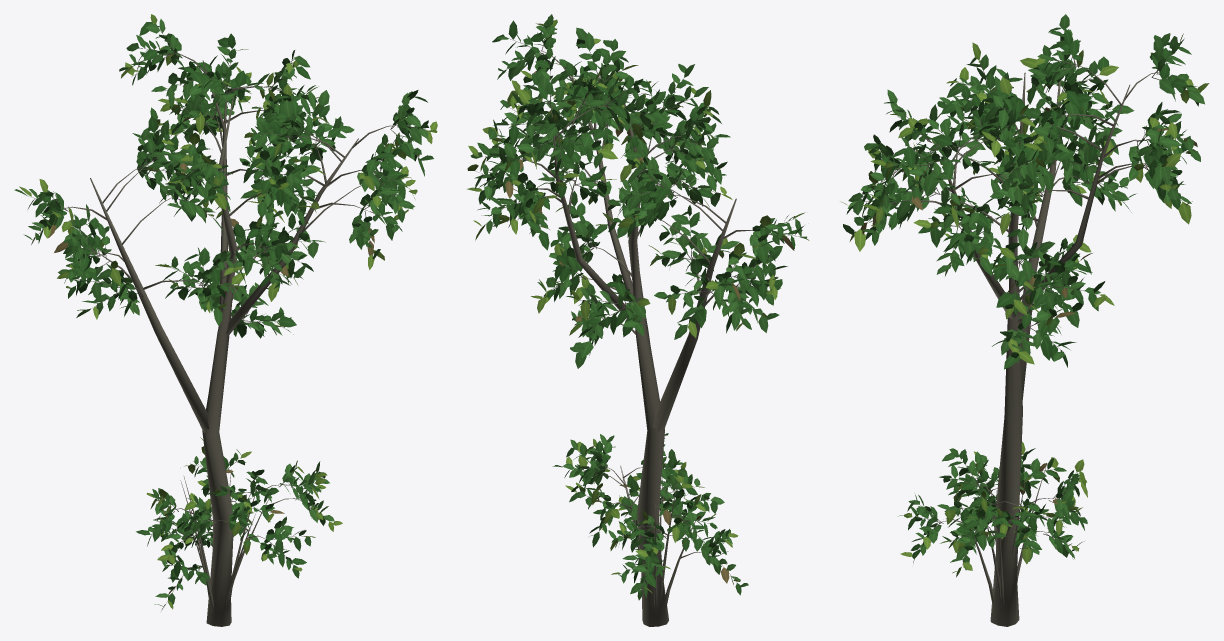
File: background-foliage.glb
3 renders of one model, left to right at view 1: azimuth 30°, elevation 25°; view 2: azimuth 150°, elevation 25°; view 3: azimuth 270°, elevation 25°, orthographic. The views are drawn at different scales.
Parts seen in each view (by area): view 1: Crown_0, Trunk_0, Shrub_0, Branch_0; view 2: Crown_0, Trunk_0, Shrub_0, Branch_0; view 3: Crown_0, Trunk_0, Shrub_0, Branch_0.
Boxes of the visible parts, left/top/right/bottom form: Crown_0: left=14, top=14, right=437, bottom=338; Trunk_0: left=28, top=30, right=427, bottom=626; Shrub_0: left=136, top=437, right=342, bottom=610; Branch_0: left=151, top=460, right=319, bottom=611; Crown_0: left=467, top=14, right=809, bottom=368; Trunk_0: left=475, top=28, right=800, bottom=626; Shrub_0: left=552, top=433, right=748, bottom=600; Branch_0: left=561, top=450, right=736, bottom=608; Crown_0: left=840, top=14, right=1209, bottom=369; Trunk_0: left=850, top=31, right=1188, bottom=626; Shrub_0: left=898, top=441, right=1087, bottom=577; Branch_0: left=913, top=458, right=1080, bottom=608.
Bounding box in the file's own units: 5.84 × 8.74 × 4.91.
Materials: 2 (1 with a texture image).
